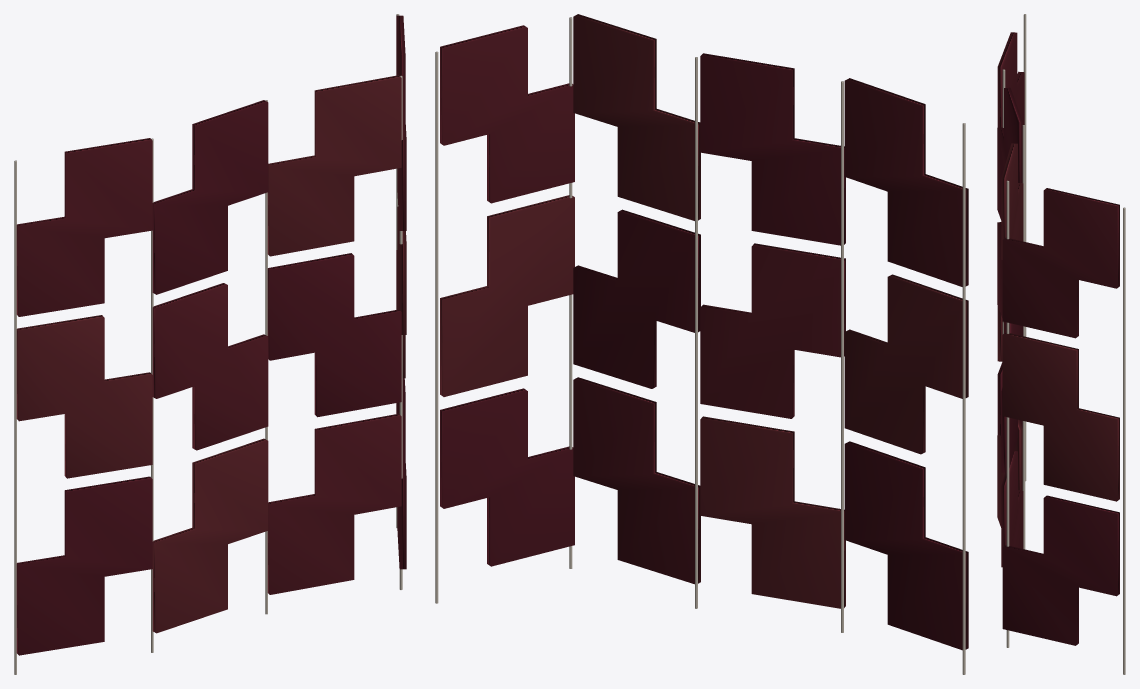
The model's file is V25_screen.glb.
The picture shows the model from 3 angles, left to right: view 1: azimuth 30°, elevation 25°; view 2: azimuth 150°, elevation 25°; view 3: azimuth 270°, elevation 25°; orthographic projection. The views are drawn at different scales.
Parts seen in each view (by area): view 1: deep burgundy polished panel 2, deep burgundy polished panel 0, deep burgundy polished panel 1, champagne hinge rods; view 2: deep burgundy polished panel 2, deep burgundy polished panel 1, deep burgundy polished panel 0, champagne hinge rods; view 3: deep burgundy polished panel 2, deep burgundy polished panel 0, deep burgundy polished panel 1, champagne hinge rods.
Boxes of the visible parts, x1,y1,x2,y2 form: deep burgundy polished panel 2: (16, 15, 406, 594); deep burgundy polished panel 0: (16, 100, 406, 655); deep burgundy polished panel 1: (16, 75, 406, 633); champagne hinge rods: (14, 14, 402, 674); deep burgundy polished panel 2: (440, 25, 968, 584); deep burgundy polished panel 1: (440, 14, 968, 608); deep burgundy polished panel 0: (440, 53, 968, 650); champagne hinge rods: (435, 17, 965, 674); deep burgundy polished panel 2: (997, 32, 1119, 567); deep burgundy polished panel 0: (997, 87, 1119, 645); deep burgundy polished panel 1: (997, 143, 1119, 527); champagne hinge rods: (1002, 14, 1125, 674).
Size of the model in its own units: 1.28 by 1.43 by 0.3563.
